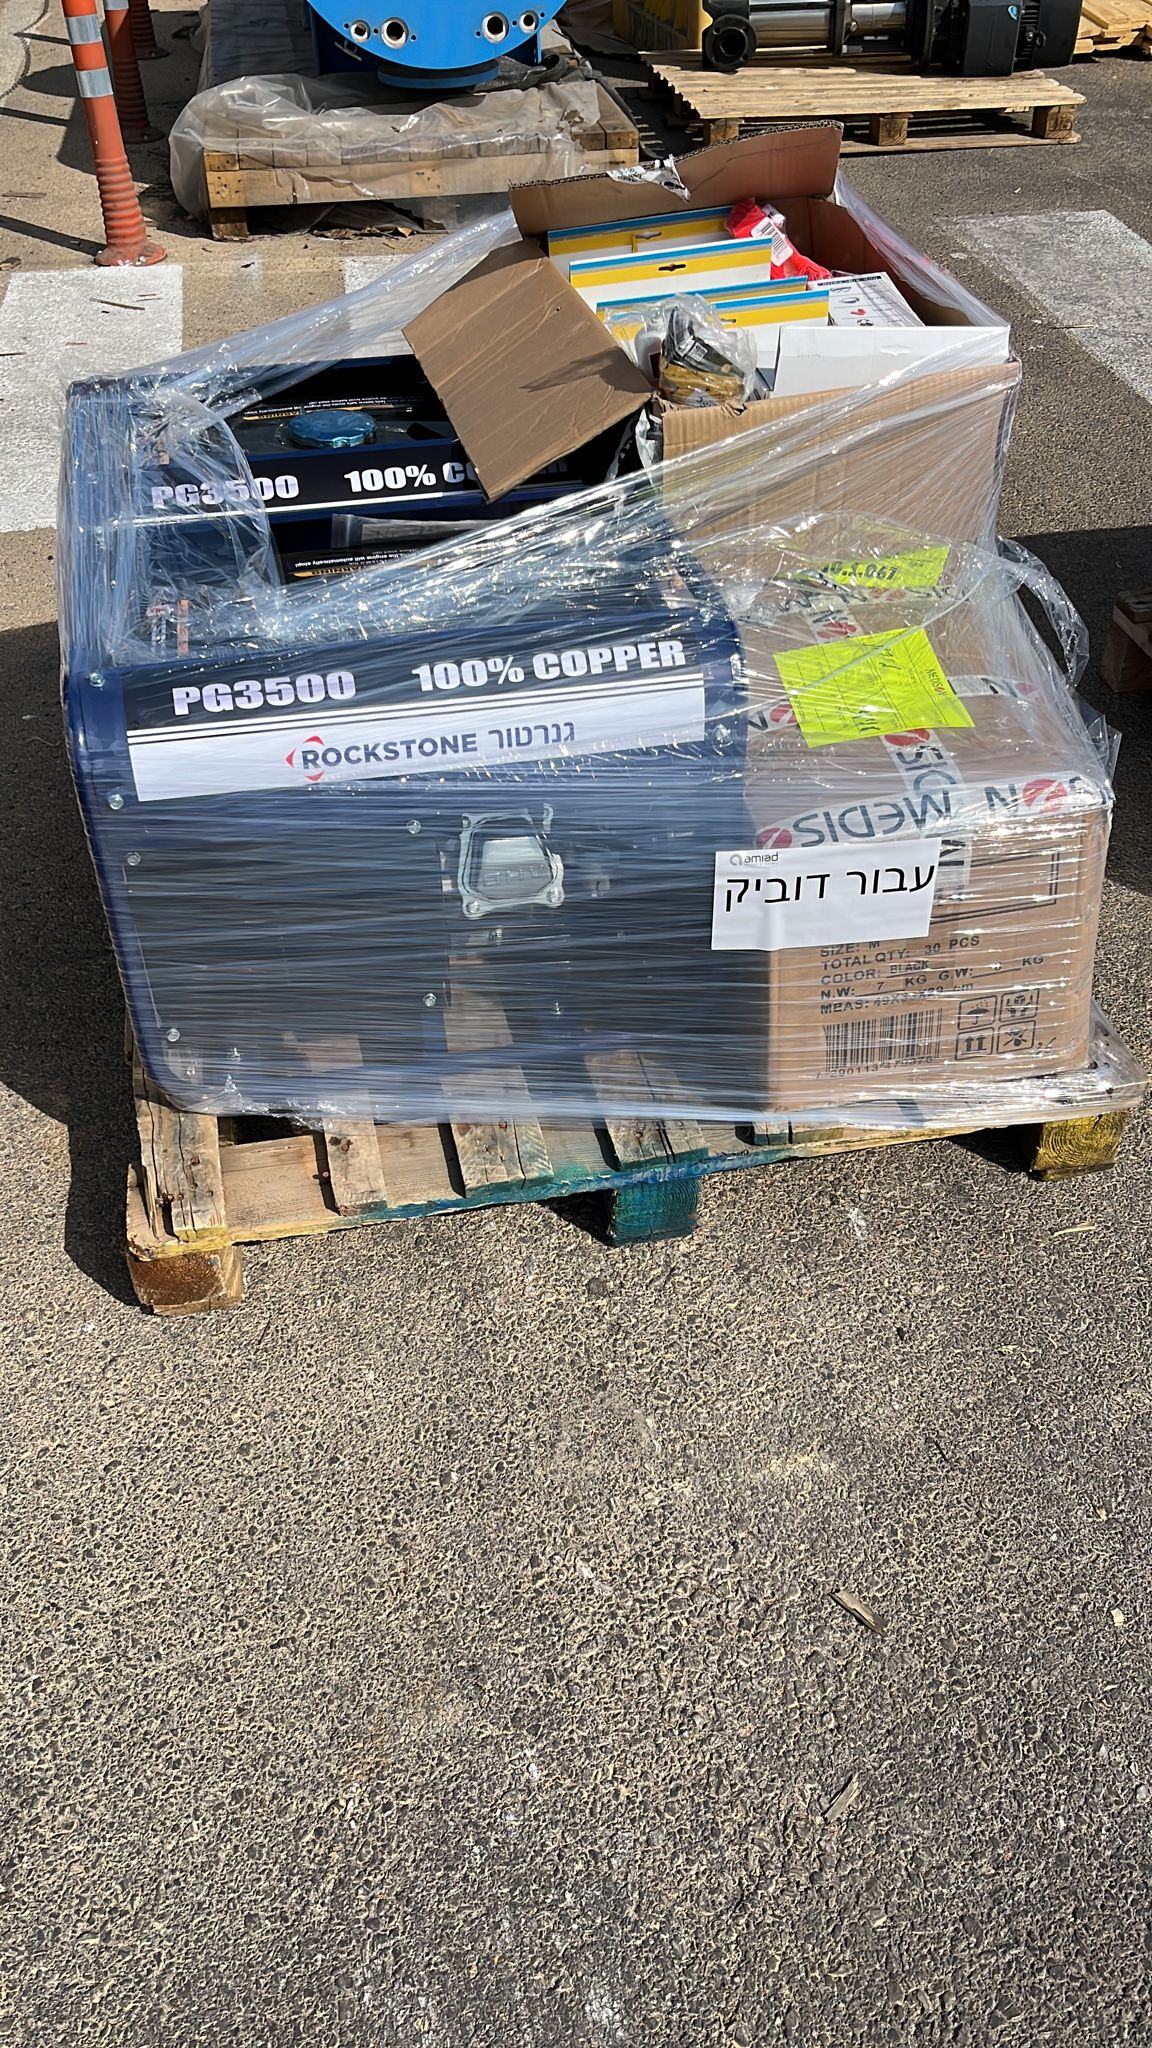box: (471, 151, 1068, 612), (743, 567, 1132, 1151)
other: (53, 315, 755, 1097)
